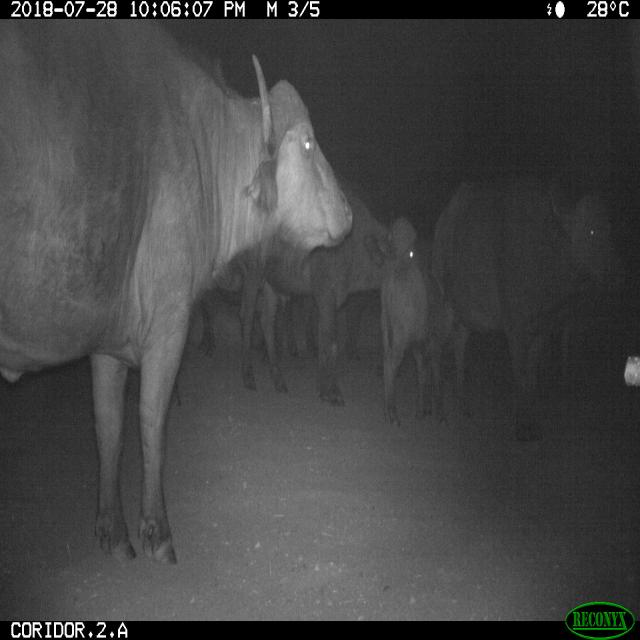buffalo: (0, 20, 355, 568)
